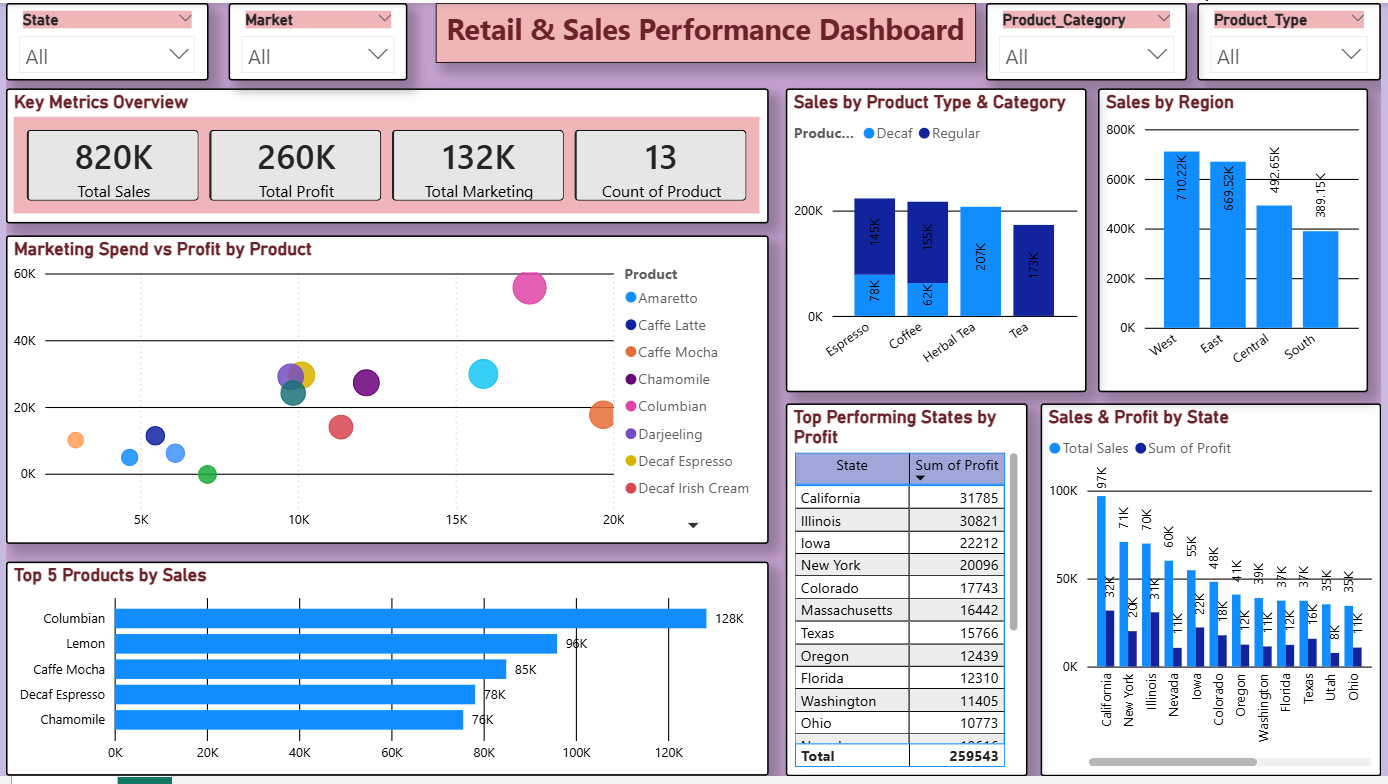

The dashboard page shown, as its layout file describes it:
{"tool":"powerbi","page":{"name":"Page 1","canvas":[1280,720],"ordinal":0},"visuals":[{"type":"slicer","fields":{"Values":["MasterTable_SQL.State"]},"box":[0,0,188.5,72.4],"z":0},{"type":"slicer","fields":{"Values":["MasterTable_SQL.Product_Type"]},"box":[1108.9,0,170.7,72.4],"z":1000},{"type":"cardVisual","title":"Key Metrics Overview","fields":{"Data":["MasterTable_SQL.Total Sales","MasterTable_SQL.Total Profit","MasterTable_SQL.Total Marketing","Count(MasterTable_SQL.Product)"]},"box":[0,79.2,710.1,125.6],"z":2000},{"type":"textbox","box":[400.1,0,502.6,56],"z":3000},{"type":"slicer","fields":{"Values":["MasterTable_SQL.Market"]},"box":[207.6,0,166.6,72.4],"z":4000},{"type":"slicer","fields":{"Values":["MasterTable_SQL.Product_Category"]},"box":[912.3,0,187.1,72.4],"z":5000},{"type":"clusteredColumnChart","title":"Sales & Profit by State","fields":{"Y":["MasterTable_SQL.Total Sales","Sum(MasterTable_SQL.Profit)"],"Category":["MasterTable_SQL.State"]},"box":[962.8,372.8,316.8,346.9],"z":6000},{"type":"clusteredBarChart","title":"Top 5 Products by Sales","fields":{"Category":["MasterTable_SQL.Product"],"Y":["MasterTable_SQL.Total Sales"]},"box":[0,520.3,710.1,199.4],"z":7000},{"type":"clusteredColumnChart","title":"Sales by Region","fields":{"Category":["train.Region"],"Y":["Sum(train.Sales)"]},"box":[1016,79.2,251.3,282.7],"z":8000},{"type":"columnChart","title":"Sales by Product Type & Category","fields":{"Category":["MasterTable_SQL.Product_Type"],"Y":["Sum(MasterTable_SQL.Sales)"],"Series":["MasterTable_SQL.Product_Category"]},"box":[726.5,79.2,280,282.7],"z":9000},{"type":"scatterChart","title":"Marketing Spend vs Profit by Product","fields":{"X":["Sum(MasterTable_SQL.Marketing)"],"Y":["Sum(MasterTable_SQL.Profit)"],"Size":["Sum(MasterTable_SQL.Sales)"],"Series":["MasterTable_SQL.Product"]},"box":[0,215.8,710.1,286.8],"z":10000},{"type":"tableEx","title":"Top Performing States by Profit","fields":{"Values":["MasterTable_SQL.State","Sum(MasterTable_SQL.Profit)"]},"box":[726.5,372.8,225.3,346.9],"z":11000}]}

Visuals, with their boxes in screenshot pixels (x1, y1, x2, y2), scaled from the page's 1280x720 canvas onto the 1388x784 screenshot:
slicer - MasterTable_SQL.State: {"x1": 0, "y1": 0, "x2": 204, "y2": 79}
slicer - MasterTable_SQL.Product_Type: {"x1": 1202, "y1": 0, "x2": 1387, "y2": 79}
"Key Metrics Overview" cardVisual: {"x1": 0, "y1": 86, "x2": 770, "y2": 223}
textbox: {"x1": 434, "y1": 0, "x2": 979, "y2": 61}
slicer - MasterTable_SQL.Market: {"x1": 225, "y1": 0, "x2": 406, "y2": 79}
slicer - MasterTable_SQL.Product_Category: {"x1": 989, "y1": 0, "x2": 1192, "y2": 79}
"Sales & Profit by State" clusteredColumnChart: {"x1": 1044, "y1": 406, "x2": 1387, "y2": 783}
"Top 5 Products by Sales" clusteredBarChart: {"x1": 0, "y1": 567, "x2": 770, "y2": 783}
"Sales by Region" clusteredColumnChart: {"x1": 1102, "y1": 86, "x2": 1374, "y2": 394}
"Sales by Product Type & Category" columnChart: {"x1": 788, "y1": 86, "x2": 1091, "y2": 394}
"Marketing Spend vs Profit by Product" scatterChart: {"x1": 0, "y1": 235, "x2": 770, "y2": 547}
"Top Performing States by Profit" tableEx: {"x1": 788, "y1": 406, "x2": 1032, "y2": 783}
